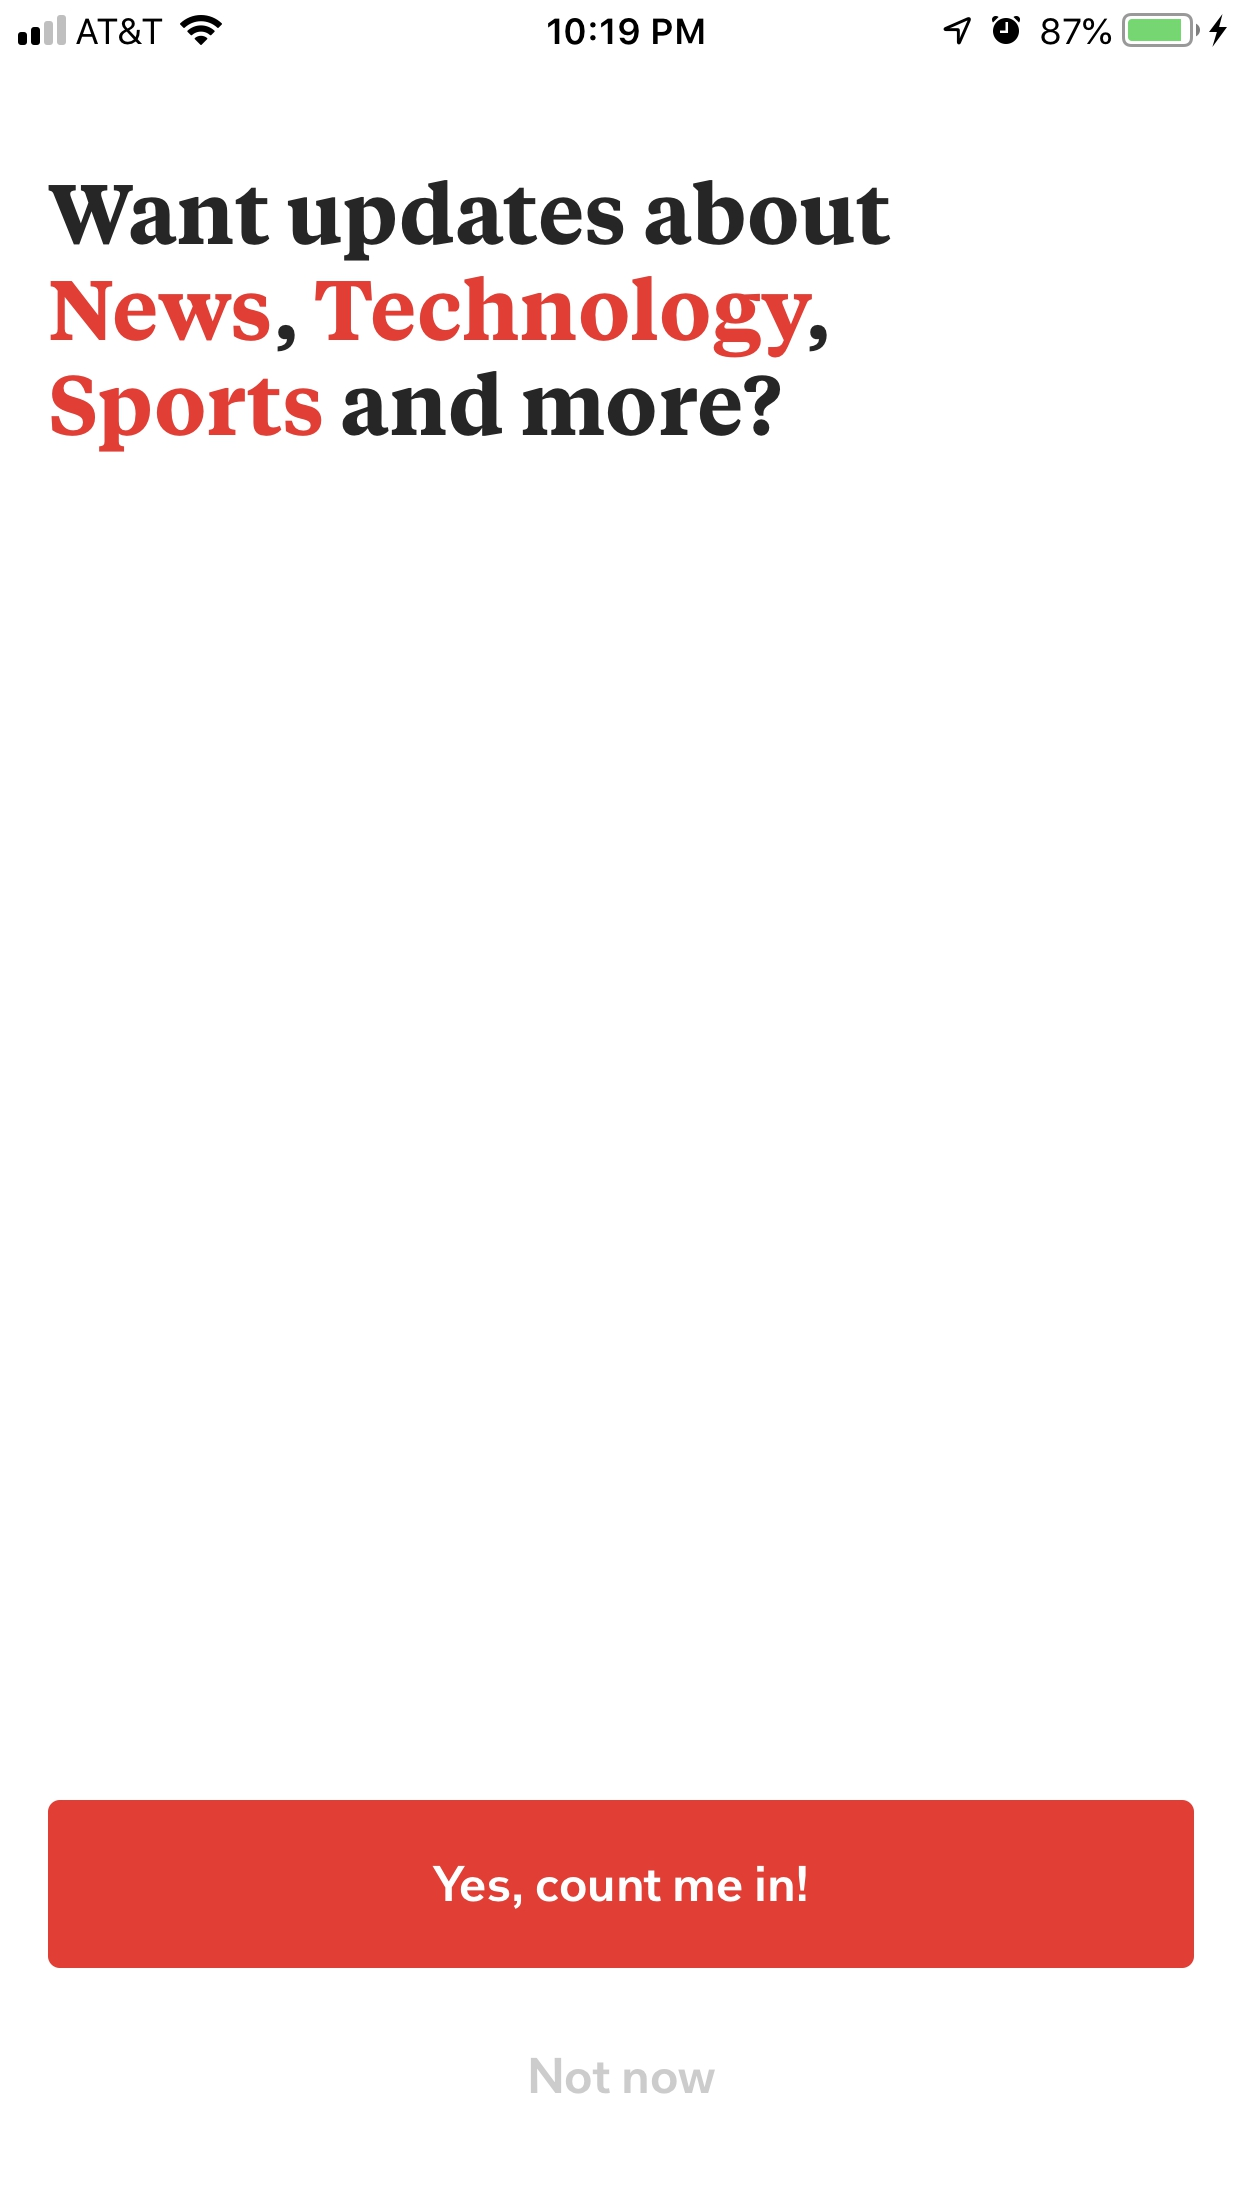Text: (49, 179, 892, 453), (529, 2056, 716, 2094)
TextButton: (49, 1800, 1193, 1968)
UpperTaskBar: (2, 2, 1242, 49)
